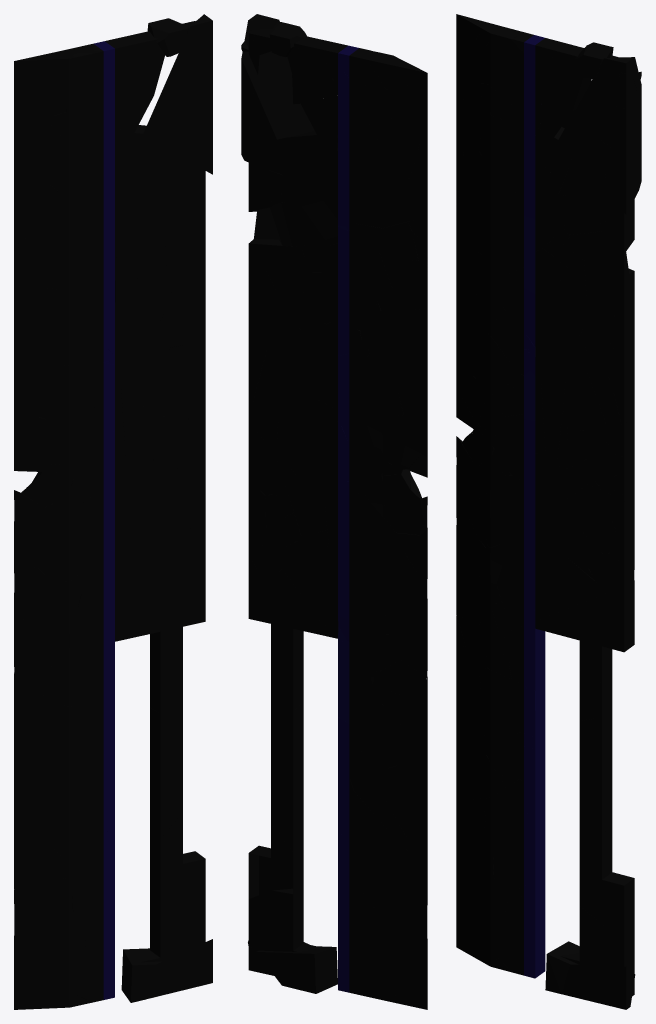
Rendered from taikennB.fbx.
3 renders of one model, left to right at view 1: azimuth 30°, elevation 25°; view 2: azimuth 150°, elevation 25°; view 3: azimuth 330°, elevation 25°, orthographic.
Visible parts, largest first — view 1: 1_cell.004, 1_cell.021, 1_cell.030_cell.005, 1_cell.013, 1_cell_cell.008, 1_cell.025, 1_cell_cell.003, 1_cell.022, 1_cell.019_cell.009, 1_cell.018, 1_cell_cell.002, 1_cell.030_cell_cell.009 (+114 smaller); view 2: 1_cell.013, 1_cell.030_cell.004, 1_cell.004, 1_cell.025, 1_cell.032, 1_cell.021, 1_cell.016, 1_cell_cell.003, 1_cell.007_cell.011, 1_cell_cell.008, 1_cell.012_cell.006, 1_cell.006 (+106 smaller); view 3: 1_cell.004, 1_cell.021, 1_cell.030_cell.005, 1_cell.022, 1_cell_cell.008, 1_cell.020, 1_cell.025, 1_cell.013, 1_cell.019_cell.009, 1_cell.029_cell.003, 1_cell.012_cell.011, 1_cell.026 (+115 smaller).
Part boxes in pixels (x1,y1,x2,y2): 1_cell.004: (115,566,205,663); 1_cell.021: (150,699,182,817); 1_cell.030_cell.005: (56,208,103,306); 1_cell.013: (14,904,92,988); 1_cell_cell.008: (52,705,103,776); 1_cell.025: (140,893,205,962); 1_cell_cell.003: (14,763,62,836); 1_cell.022: (147,939,212,998); 1_cell.019_cell.009: (44,497,98,578); 1_cell.018: (14,962,75,1009); 1_cell_cell.002: (14,715,57,774); 1_cell.030_cell_cell.009: (14,243,68,288); 1_cell.013: (349,905,427,1001); 1_cell.030_cell.004: (349,131,415,228); 1_cell.004: (248,568,337,650); 1_cell.025: (248,888,322,951); 1_cell.032: (349,792,403,903); 1_cell.021: (271,702,303,807); 1_cell.016: (257,946,337,993); 1_cell_cell.003: (385,765,427,837); 1_cell.007_cell.011: (295,130,337,219); 1_cell_cell.008: (355,705,400,768); 1_cell.012_cell.006: (252,350,304,415); 1_cell.006: (349,561,381,655); 1_cell.004: (535,592,634,682); 1_cell.021: (579,714,612,834); 1_cell.030_cell.005: (482,184,523,279); 1_cell.022: (561,964,635,1009); 1_cell_cell.008: (479,668,523,737); 1_cell.020: (581,873,634,943); 1_cell.025: (560,906,634,971); 1_cell.013: (456,843,513,949); 1_cell.019_cell.009: (475,475,518,552); 1_cell.029_cell.003: (535,554,593,606); 1_cell.012_cell.011: (550,484,597,551); 1_cell.026: (579,831,626,906).
Size of the model in its own units: 205 by 1014 by 30.09.
